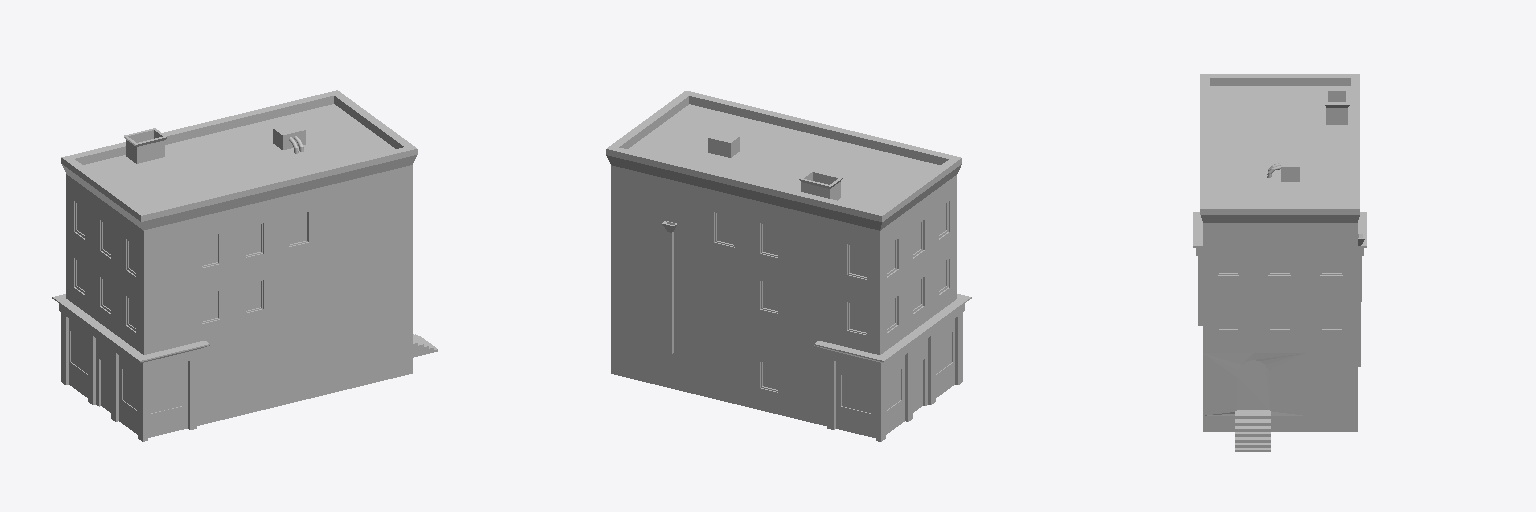
Rendered from Building_1.obj.
The picture shows the model from 3 angles: view 1: azimuth 30°, elevation 25°; view 2: azimuth 150°, elevation 25°; view 3: azimuth 270°, elevation 25°; orthographic projection.
Visible parts, largest first — view 1: Cube.002, Cube.001; view 2: Cube.002, Cube.001; view 3: Cube.002, Cube.001.
Part boxes in pixels (bbox=[...]): Cube.002: bbox=[52, 90, 437, 441]; Cube.001: bbox=[71, 203, 306, 413]; Cube.002: bbox=[606, 91, 971, 441]; Cube.001: bbox=[717, 203, 951, 413]; Cube.002: bbox=[1193, 74, 1366, 451]; Cube.001: bbox=[1219, 245, 1341, 328].
Size of the model in its own units: 7.65 by 5.42 by 3.62.